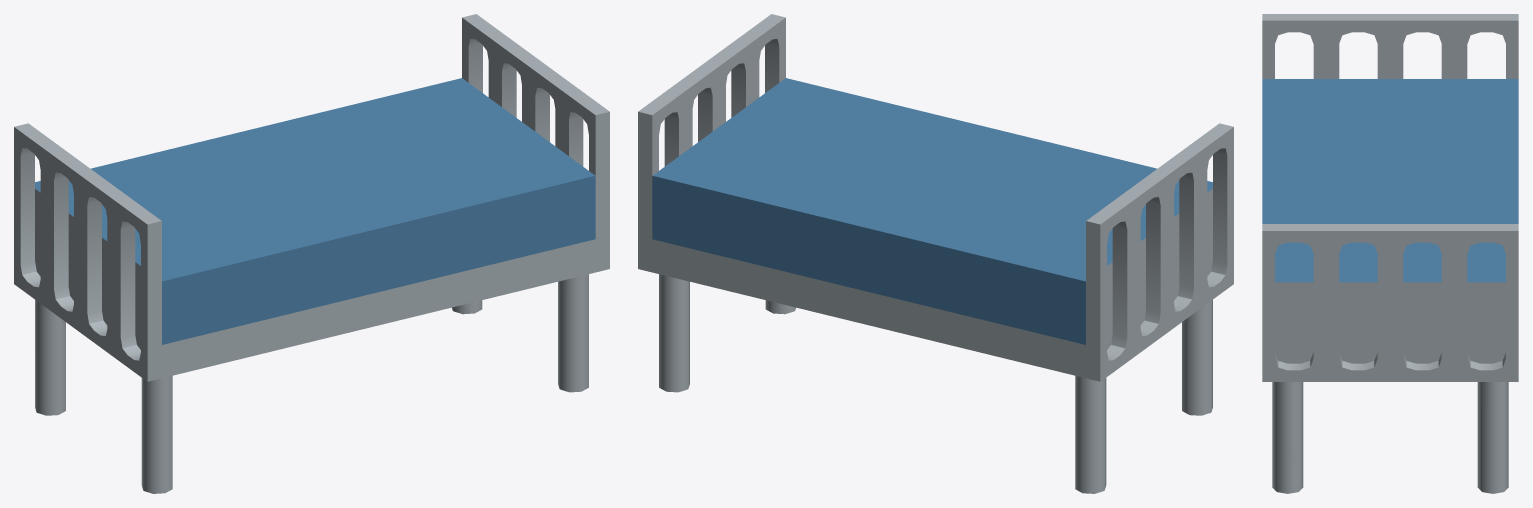
File: OldBed_Block.fbx
3 views of the same model, side by side, from view 1: azimuth 30°, elevation 25°; view 2: azimuth 150°, elevation 25°; view 3: azimuth 270°, elevation 25° (orthographic). The views are drawn at different scales.
Visible parts, largest first — view 1: OldBed_Block1, OldBed_Block2; view 2: OldBed_Block1, OldBed_Block2; view 3: OldBed_Block2, OldBed_Block1.
Part boxes in pixels (x1,y1,x2,y2): OldBed_Block1: (14, 123, 378, 493); OldBed_Block2: (246, 14, 609, 392); OldBed_Block1: (869, 123, 1233, 493); OldBed_Block2: (638, 14, 1001, 392); OldBed_Block2: (1262, 180, 1518, 493); OldBed_Block1: (1262, 14, 1518, 180).
Bounding box in the file's own units: 10 × 5.75 × 5.
